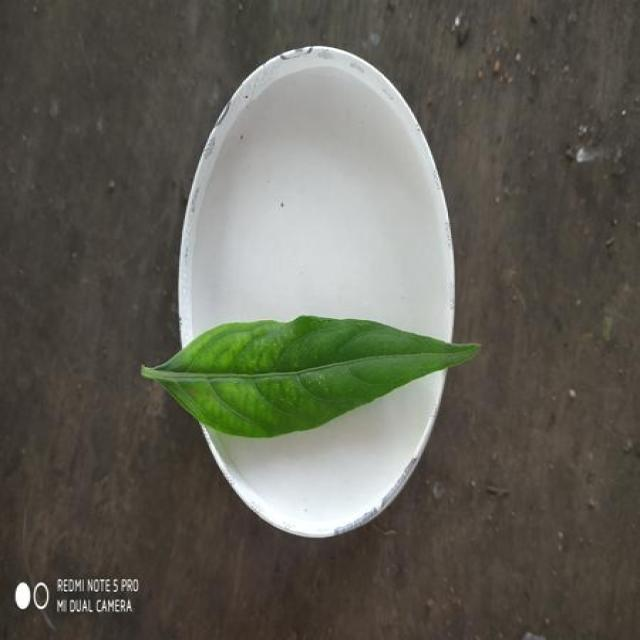Nelavembu: (142, 316, 478, 437)
